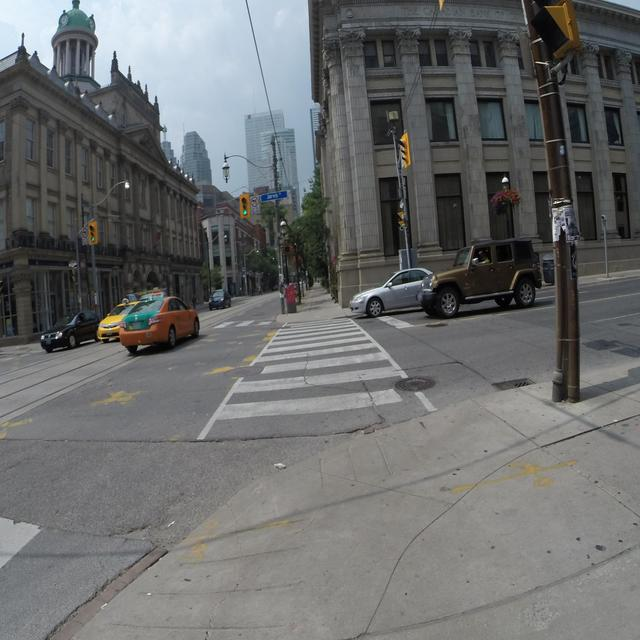Car: (350, 237, 541, 317), (39, 287, 199, 353), (208, 288, 231, 309)
Manhole: (396, 375, 435, 392), (224, 366, 263, 377), (425, 321, 448, 328), (358, 319, 374, 325), (271, 325, 289, 329)
Trash Can: (541, 253, 556, 283)
Vegetation: (235, 227, 285, 289), (491, 187, 522, 215)
